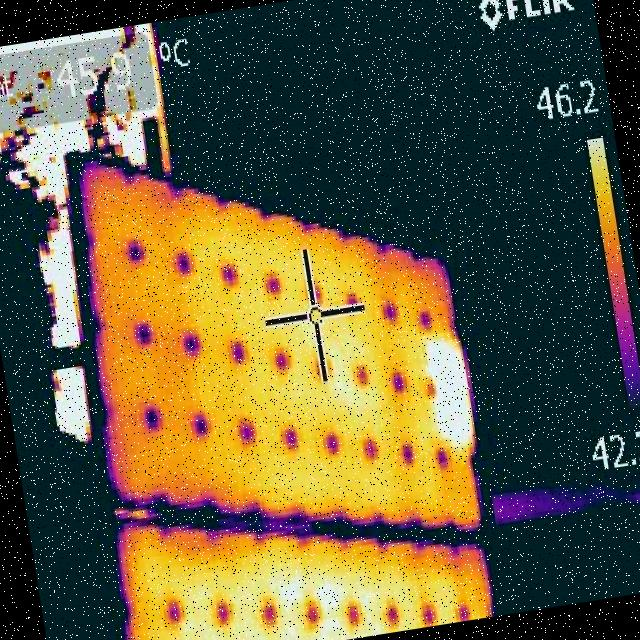Hotspot: (421, 328, 481, 460)
